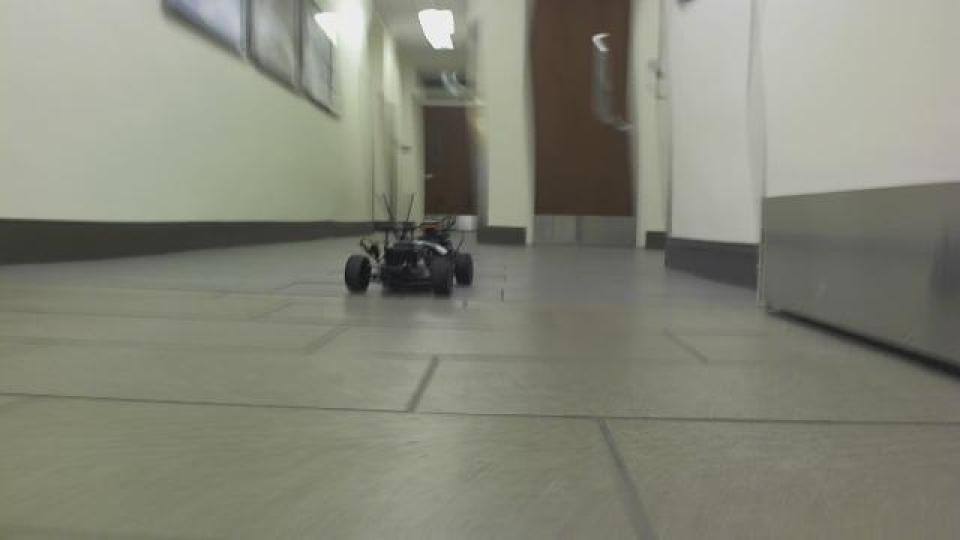car: (339, 190, 477, 298)
